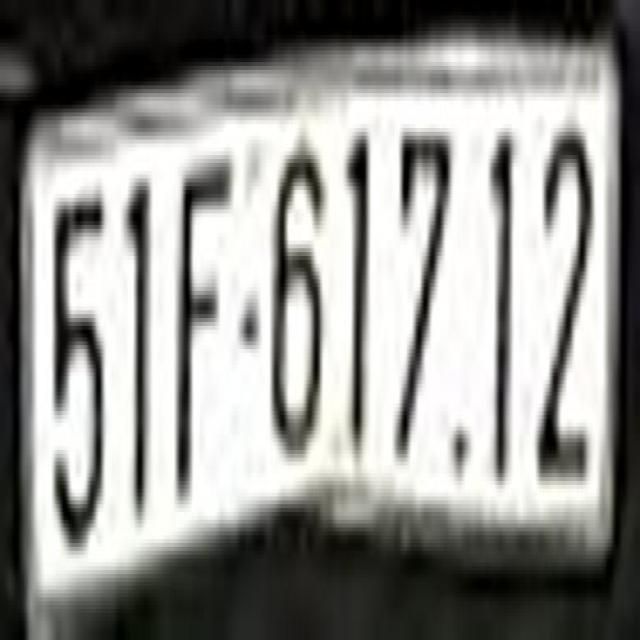1: (486, 105, 514, 481), (340, 112, 370, 458), (126, 156, 148, 532)
2: (538, 124, 592, 484)
5: (52, 167, 104, 536)
6: (270, 128, 325, 470)
7: (390, 105, 450, 481)
F: (176, 151, 230, 508)
